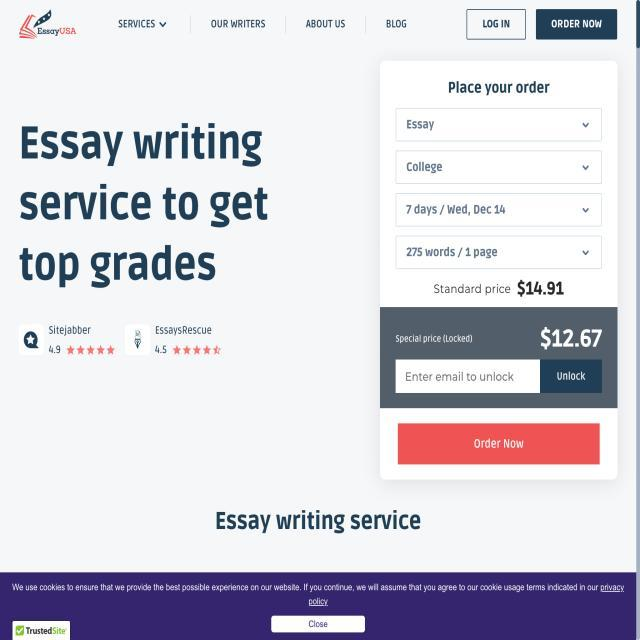button: (397, 418, 602, 464), (534, 4, 622, 44), (540, 357, 604, 400), (269, 610, 367, 638), (465, 7, 528, 42)
dropbox: (391, 227, 606, 272), (393, 144, 605, 187), (394, 188, 606, 228), (393, 104, 604, 144)
input field: (395, 357, 543, 397)
